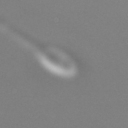normal: (1, 6, 41, 50)
